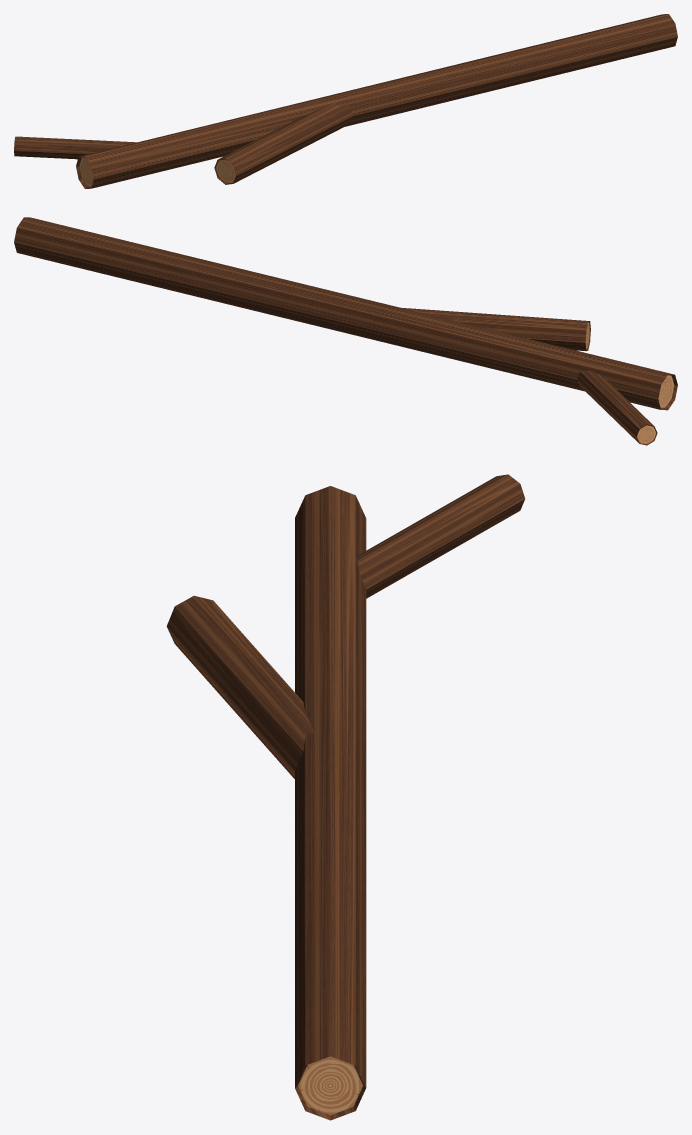
The model's file is Stick 2.fbx.
3 views of the same model, one above another, from view 1: azimuth 30°, elevation 25°; view 2: azimuth 150°, elevation 25°; view 3: azimuth 270°, elevation 25° (orthographic). The views are drawn at different scales.
Parts seen in each view (by area): view 1: Stick2; view 2: Stick2; view 3: Stick2.
Part boxes in pixels (x1,y1,x2,y2): Stick2: [14, 14, 677, 188]; Stick2: [14, 217, 677, 445]; Stick2: [166, 474, 525, 1120].
Size of the model in its own units: 72.36 by 3.63 by 18.28.
